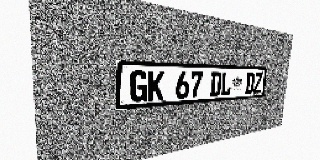6: (175, 71, 190, 99)
7: (189, 71, 203, 98)
D: (209, 72, 222, 97), (245, 72, 255, 94)
G: (130, 70, 148, 103)
K: (148, 71, 165, 101)
L: (220, 72, 232, 96)
Z: (253, 73, 263, 93)
